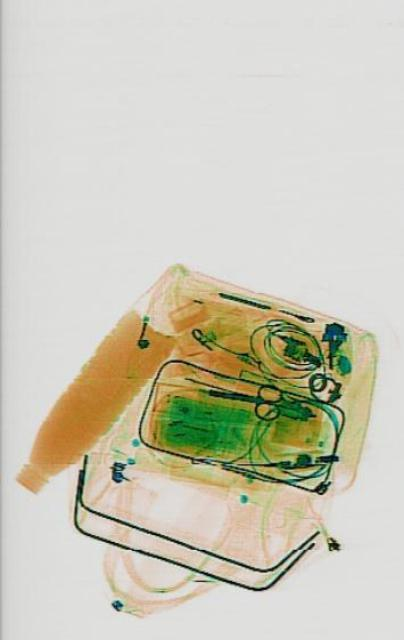Scissors: (205, 372, 280, 422)
